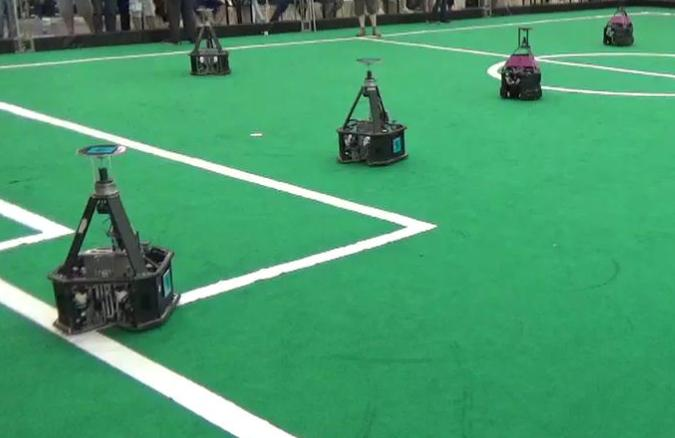robot: (45, 141, 182, 334), (334, 55, 409, 168), (494, 23, 547, 103), (185, 8, 234, 78), (600, 2, 640, 48)
